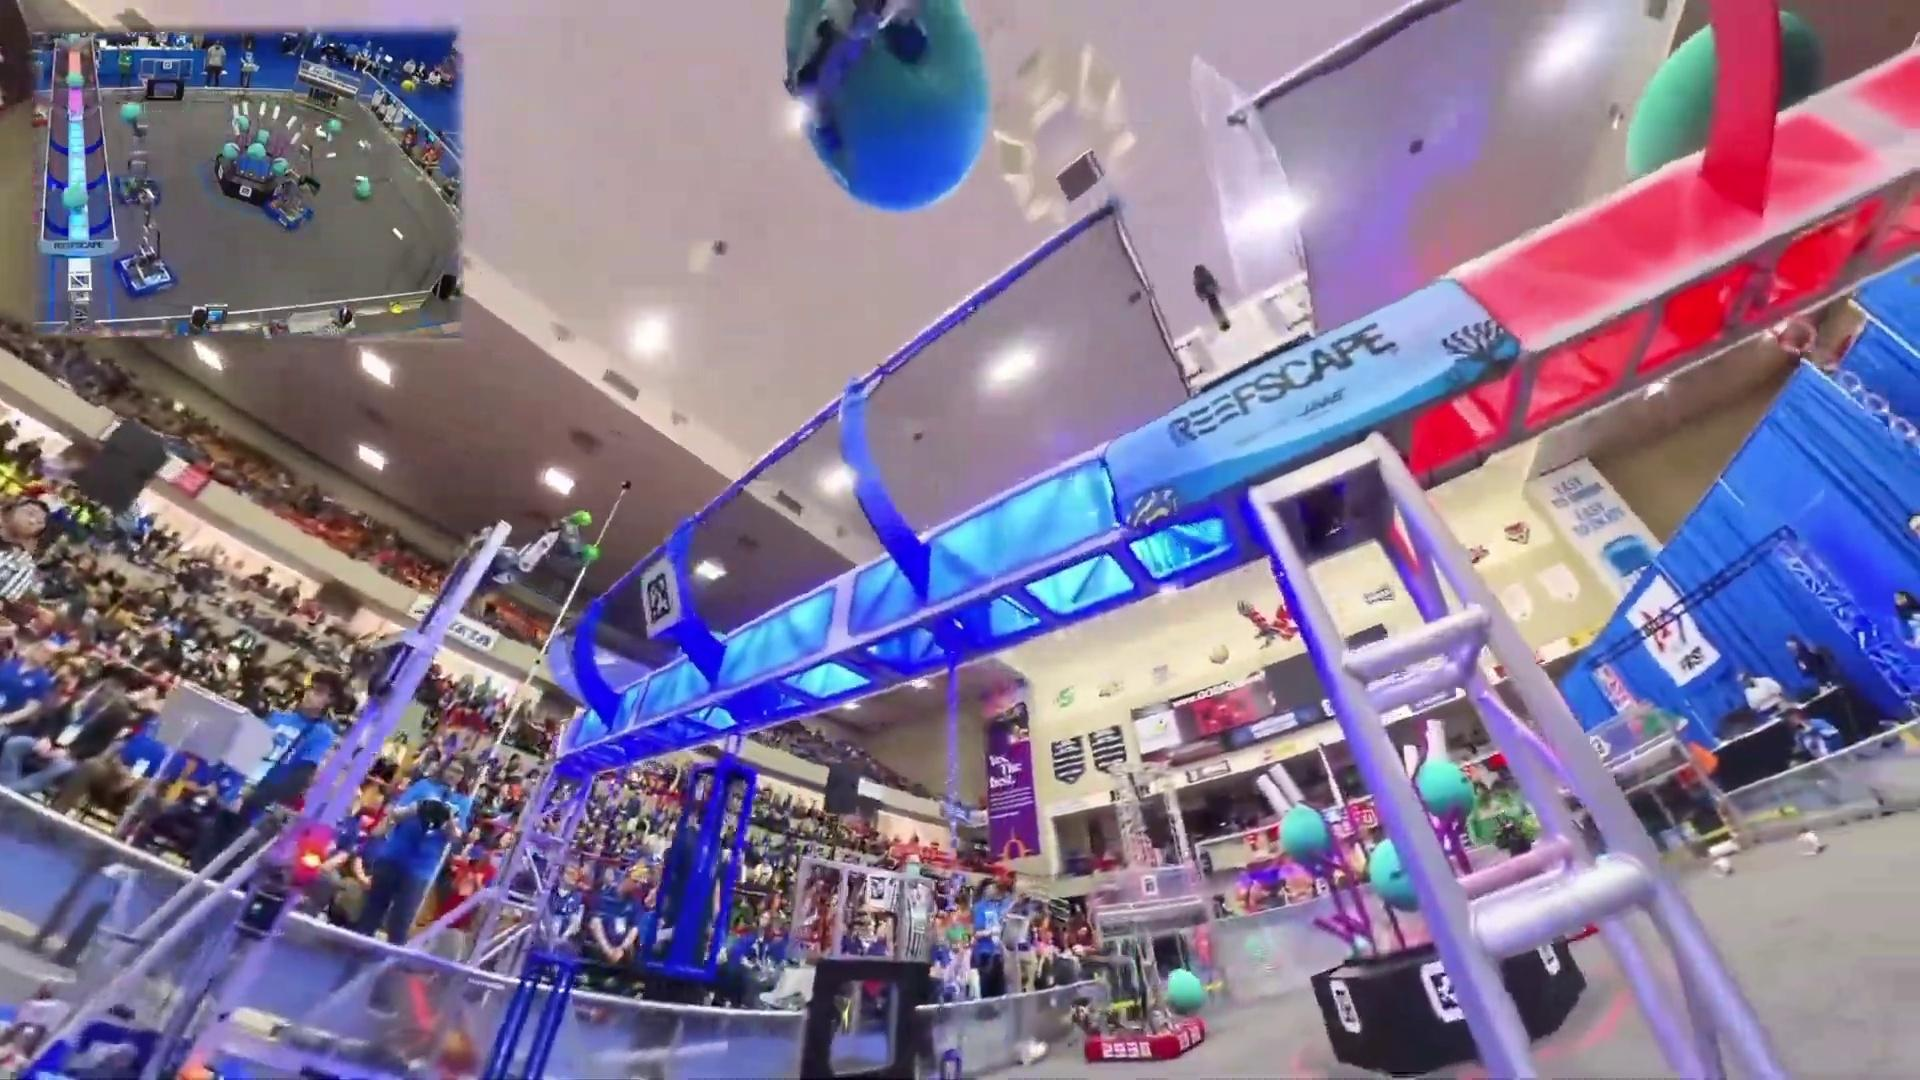robot: (1079, 951, 1207, 1063), (103, 181, 175, 298)
